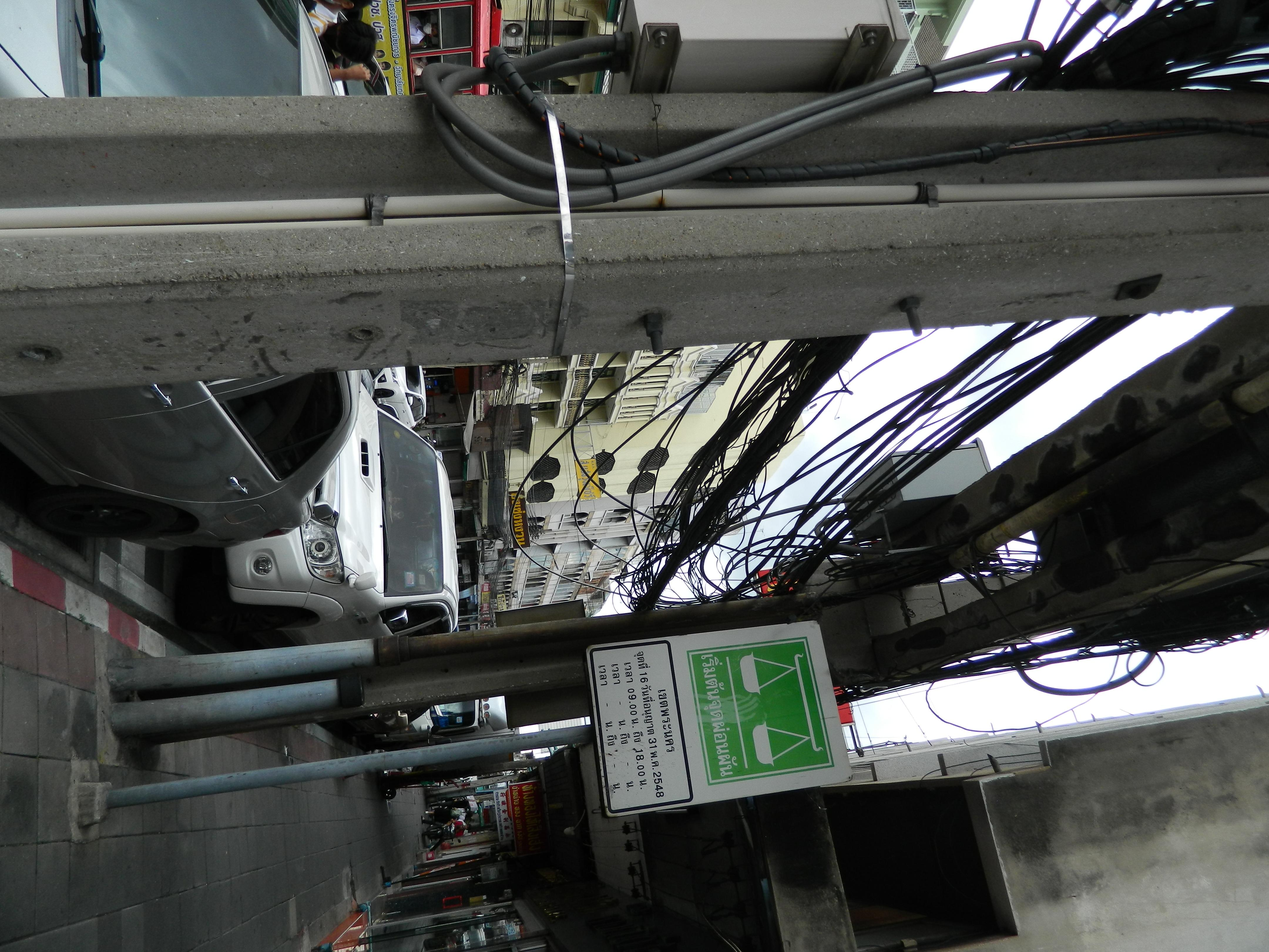wires: (428, 104, 811, 553)
